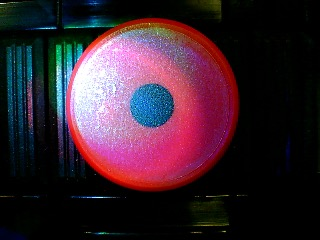BOHO: (66, 17, 239, 191)
